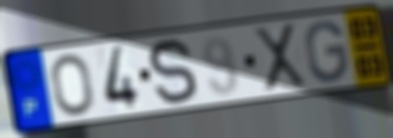4: (102, 43, 143, 115)
9: (201, 34, 240, 98)
G: (303, 18, 351, 86)
O: (48, 52, 97, 118)
S: (146, 36, 200, 109)
X: (250, 21, 310, 95)
